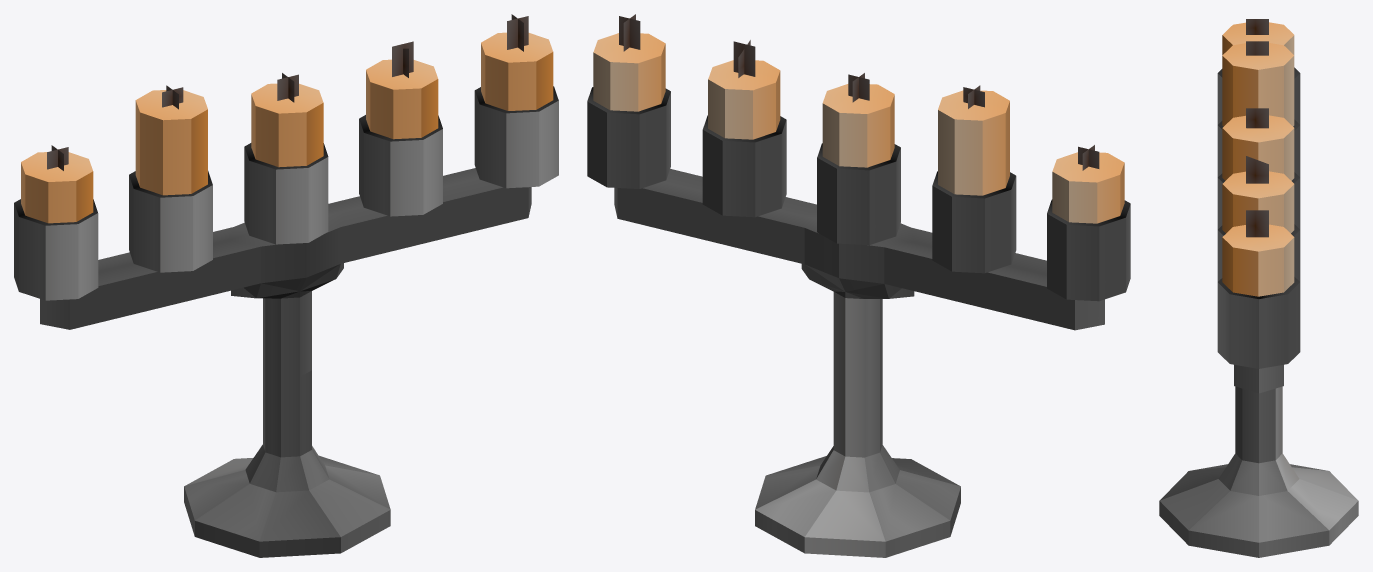
File: spent_light_997x03.obj
3 renders of one model, left to right at view 1: azimuth 30°, elevation 25°; view 2: azimuth 150°, elevation 25°; view 3: azimuth 270°, elevation 25°, orthographic. The views are drawn at different scales.
Parts seen in each view (by area): view 1: spent_light_997x03; view 2: spent_light_997x03; view 3: spent_light_997x03.
Part boxes in pixels (bbox=[...]): spent_light_997x03: bbox=[14, 14, 558, 557]; spent_light_997x03: bbox=[587, 14, 1130, 557]; spent_light_997x03: bbox=[1159, 19, 1358, 557].
Size of the model in its own units: 0.6974 by 0.5646 by 0.2414.
